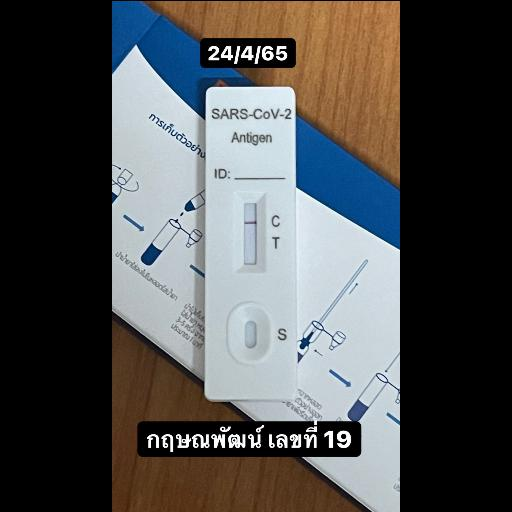Neg: (205, 88, 291, 398)
